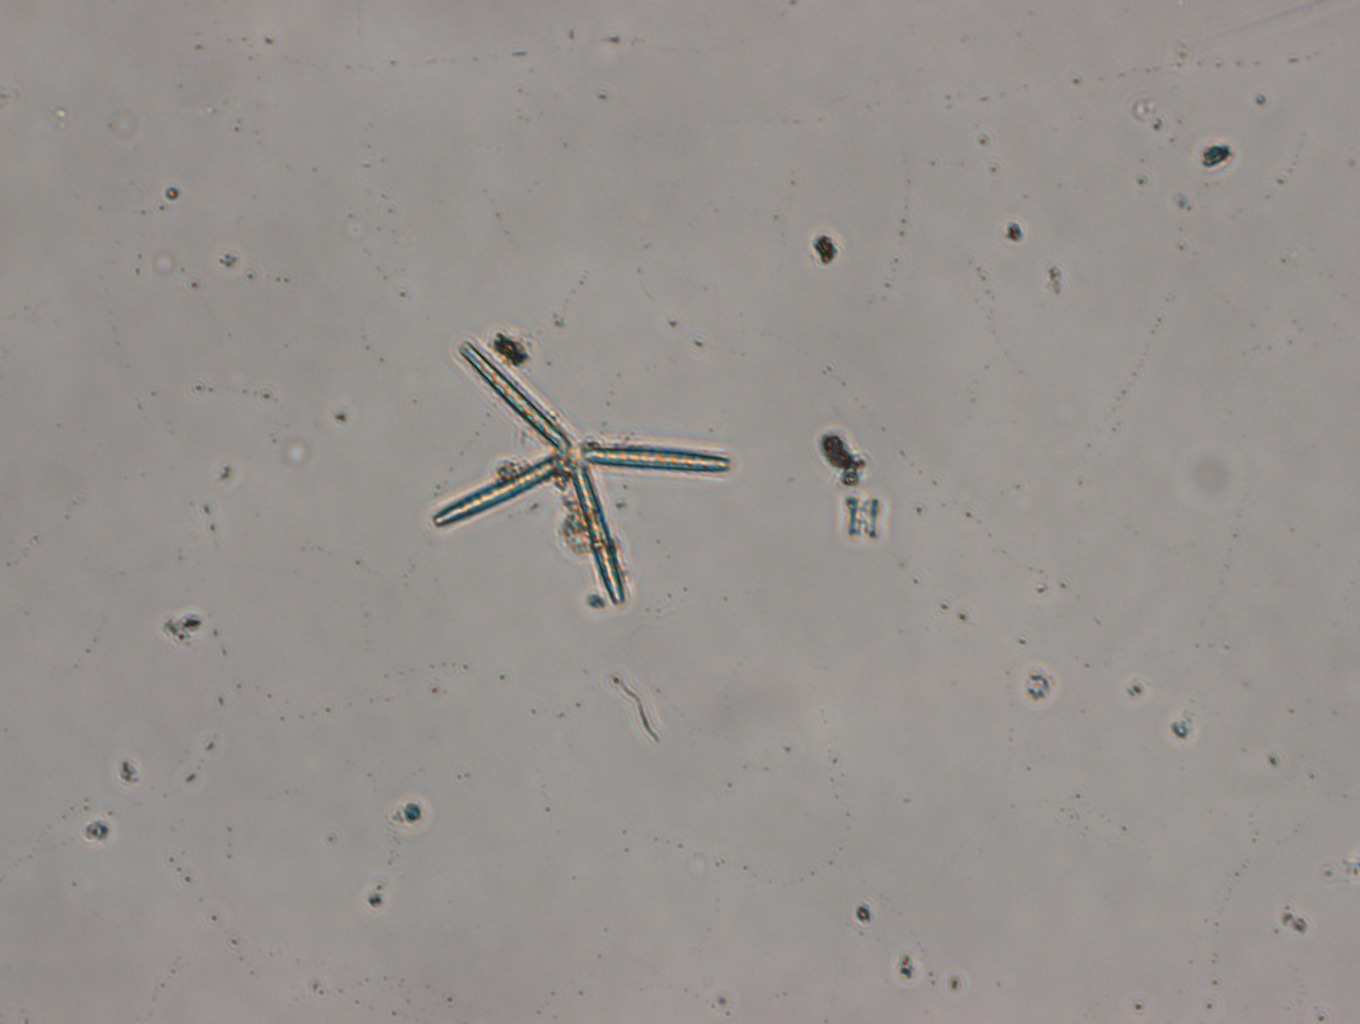thalassionema nitzschioides: (433, 340, 736, 606)
